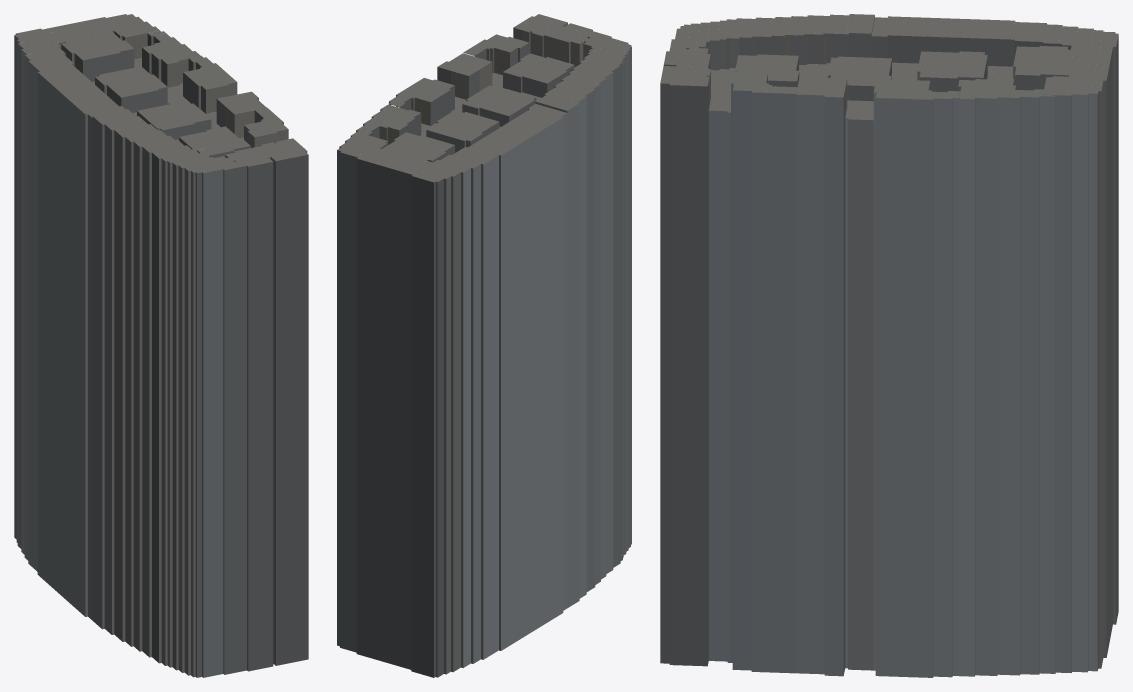
Rendered from t_-5_7.far.glb.
3 renders of one model, left to right at view 1: azimuth 30°, elevation 25°; view 2: azimuth 150°, elevation 25°; view 3: azimuth 270°, elevation 25°, orthographic. The views are drawn at different scales.
Parts seen in each view (by area): view 1: opaque; view 2: opaque; view 3: opaque.
Boxes of the visible parts, x1,y1,x2,y2 form: opaque: [14, 14, 308, 677]; opaque: [337, 14, 631, 677]; opaque: [660, 14, 1118, 677].
Size of the model in its own units: 31.16 by 100 by 71.77.
Materials: 1 (1 with a texture image).
